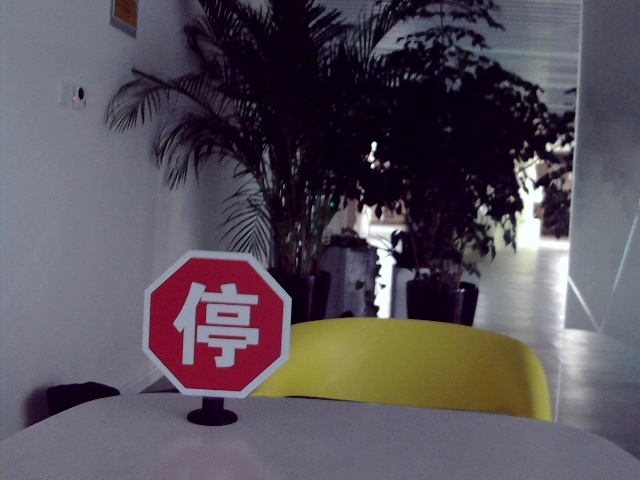stop: (173, 274, 262, 371)
